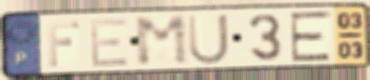3: (247, 12, 285, 62)
E: (288, 9, 334, 63), (87, 16, 131, 69)
F: (45, 19, 82, 69)
M: (132, 13, 193, 69)
U: (185, 12, 232, 67)
